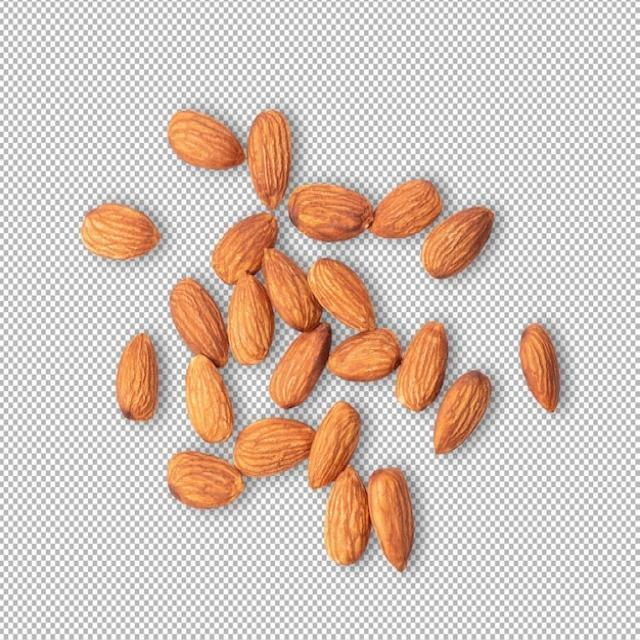almond: (269, 320, 334, 412), (167, 277, 230, 367), (307, 256, 379, 334), (259, 244, 320, 334), (233, 417, 318, 479), (423, 208, 497, 279), (286, 183, 374, 242), (367, 467, 416, 571), (211, 213, 281, 285), (307, 400, 363, 490), (432, 368, 490, 453), (167, 110, 247, 170), (324, 465, 371, 567), (365, 178, 442, 238), (229, 268, 274, 368), (248, 109, 292, 211), (165, 451, 243, 508), (79, 206, 160, 259), (398, 321, 446, 410), (186, 353, 233, 443), (326, 329, 403, 380), (115, 334, 157, 420), (519, 323, 560, 410)
